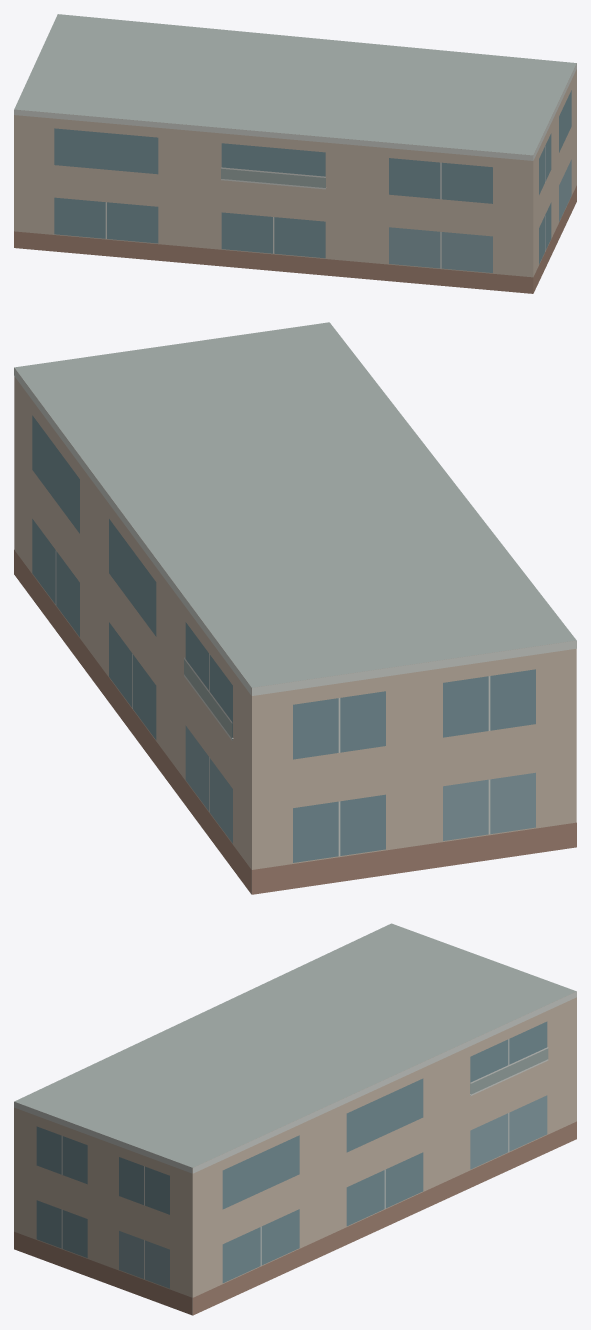
Rendered from survey-upis-32708900.glb.
The picture shows the model from 3 angles, top to bottom: view 1: azimuth 30°, elevation 25°; view 2: azimuth 150°, elevation 25°; view 3: azimuth 270°, elevation 25°; orthographic projection. The views are drawn at different scales.
Visible parts, largest first — view 1: survey-upis-32708900.tmp; view 2: survey-upis-32708900.tmp; view 3: survey-upis-32708900.tmp.
Part boxes in pixels (x1,y1,x2,y2): survey-upis-32708900.tmp: (14, 14, 576, 293); survey-upis-32708900.tmp: (14, 322, 576, 894); survey-upis-32708900.tmp: (14, 923, 576, 1315).
Size of the model in its own units: 21.66 by 6.1 by 21.08.
